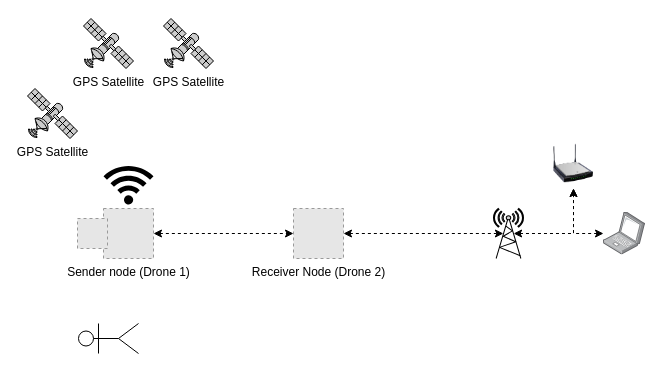
The diagram is 663 pixels wide and 371 high, and some of its shapes have lost their labels. Grey dashed boxes stand in for pictures. Here are the shapes that lost their labels. From the top down, the box of each, then its label:
(492, 207, 524, 259): Receiver Node (Base station)
(78, 322, 138, 354): Victim
